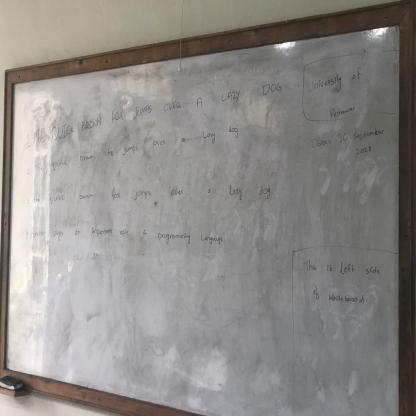Handwritten text: (26, 62, 289, 150), (30, 115, 244, 176), (28, 182, 278, 213), (32, 222, 233, 253), (302, 256, 381, 282), (307, 285, 371, 313), (309, 61, 358, 96), (325, 100, 363, 119), (352, 125, 384, 146), (307, 134, 332, 154)
Whiteboard: (1, 18, 402, 415)
